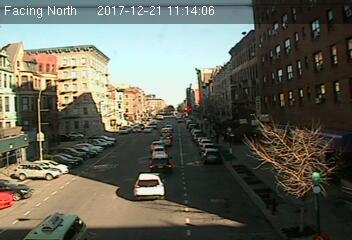car: (133, 172, 165, 200), (150, 156, 172, 173), (201, 148, 220, 163), (151, 146, 168, 160), (151, 139, 165, 149)
